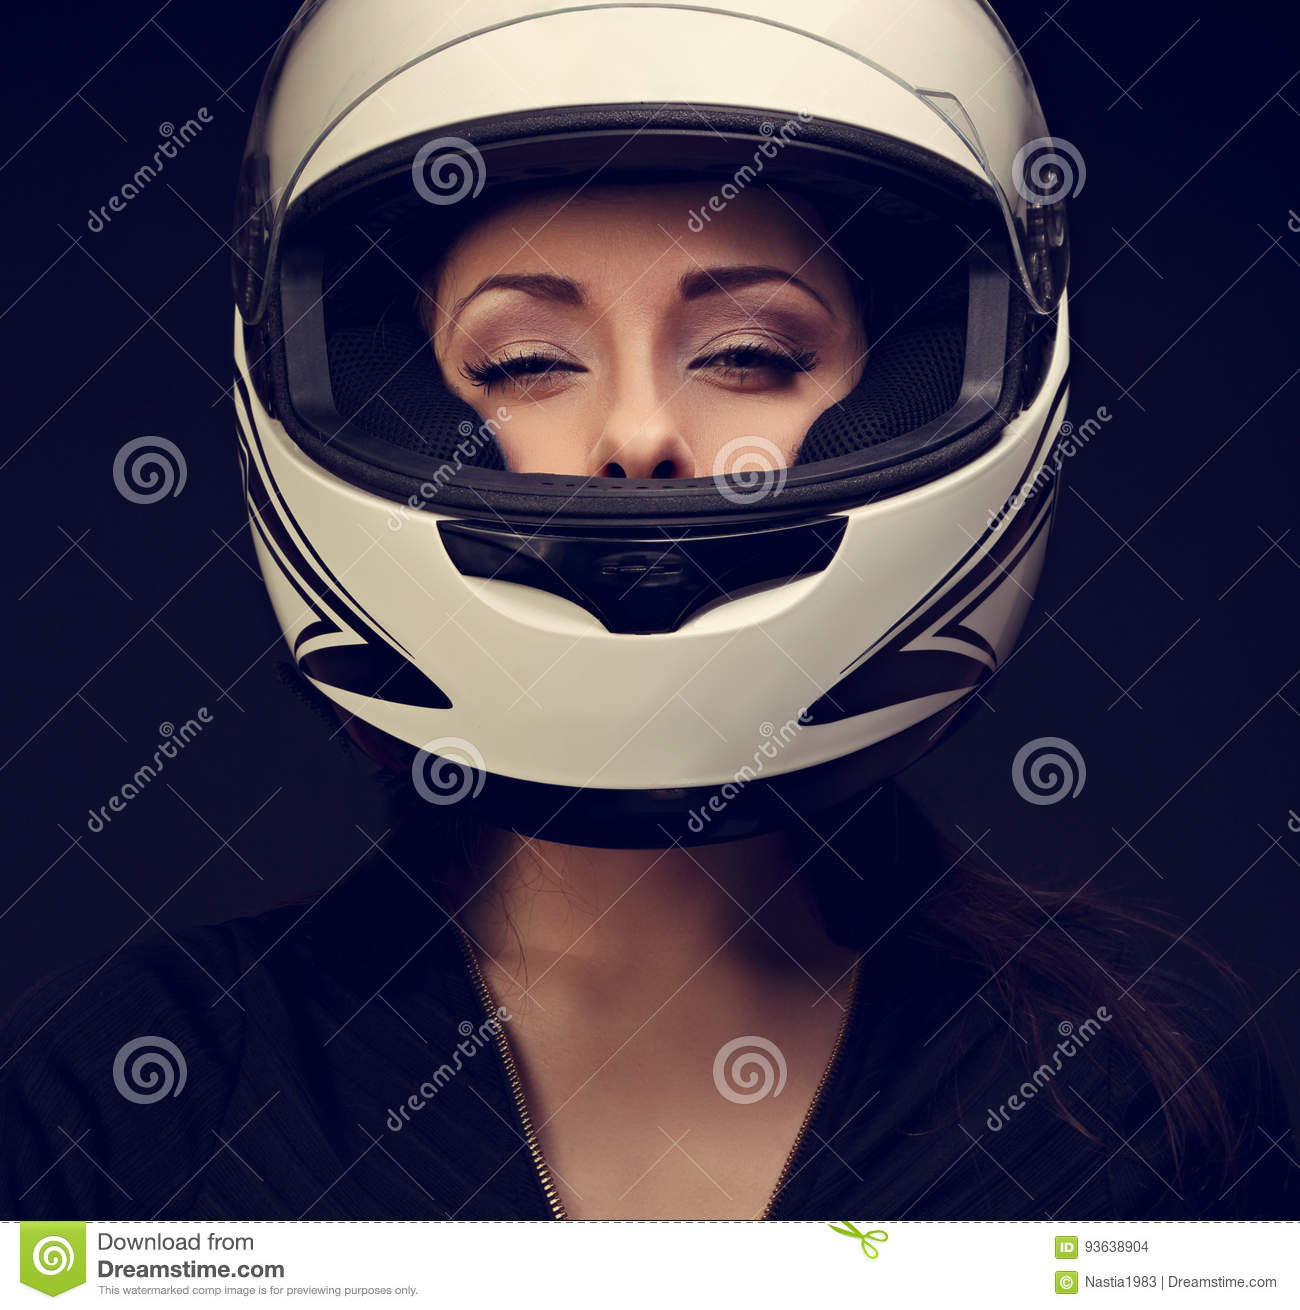helmet: (226, 12, 1060, 816)
